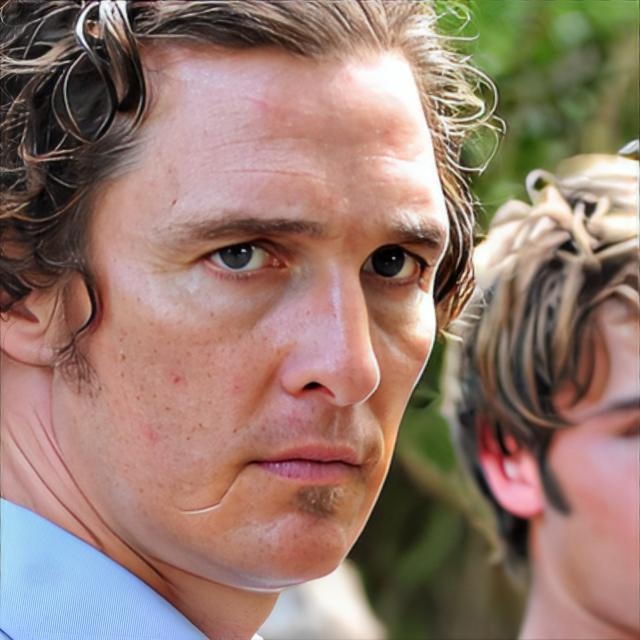anger: (55, 46, 458, 594)
